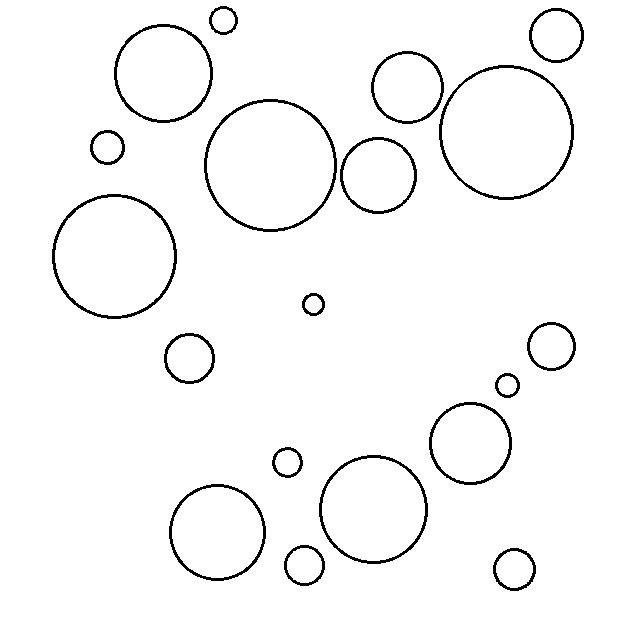circle: (436, 63, 578, 204), (205, 97, 339, 235), (52, 191, 178, 322), (316, 450, 432, 566), (114, 21, 215, 125), (167, 481, 269, 583), (425, 398, 516, 489), (369, 47, 447, 126), (341, 135, 419, 214), (527, 7, 588, 65), (523, 317, 580, 374), (162, 330, 217, 386), (491, 544, 538, 594), (281, 542, 327, 590), (88, 127, 128, 168), (270, 442, 304, 480), (206, 3, 242, 37), (494, 369, 522, 401), (300, 291, 327, 319)
